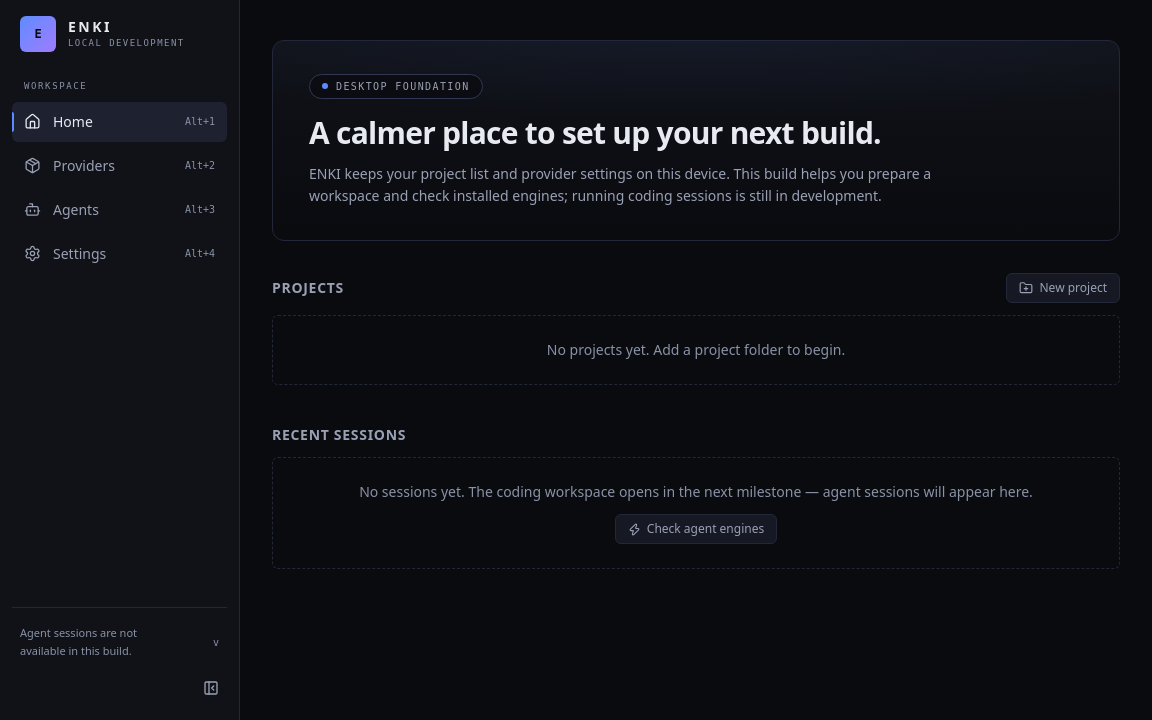
Test: App shell › switches pages via nav buttons
This screenshot has width=1152, height=720.
Click the button titled "Settings (Alt+4)": (120, 254) [12, 234, 227, 274]
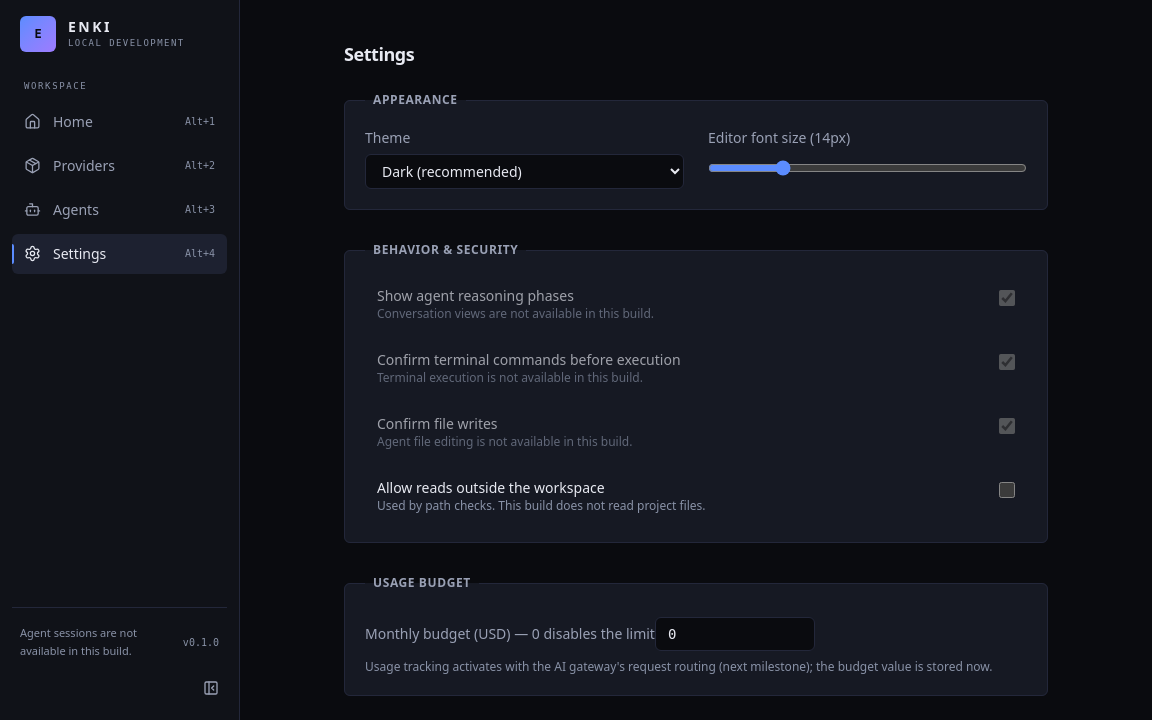
Expected: the text "Appearance" is shown, [373, 91, 458, 108]
